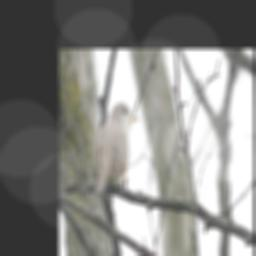Cuckoo: (93, 101, 138, 200)
